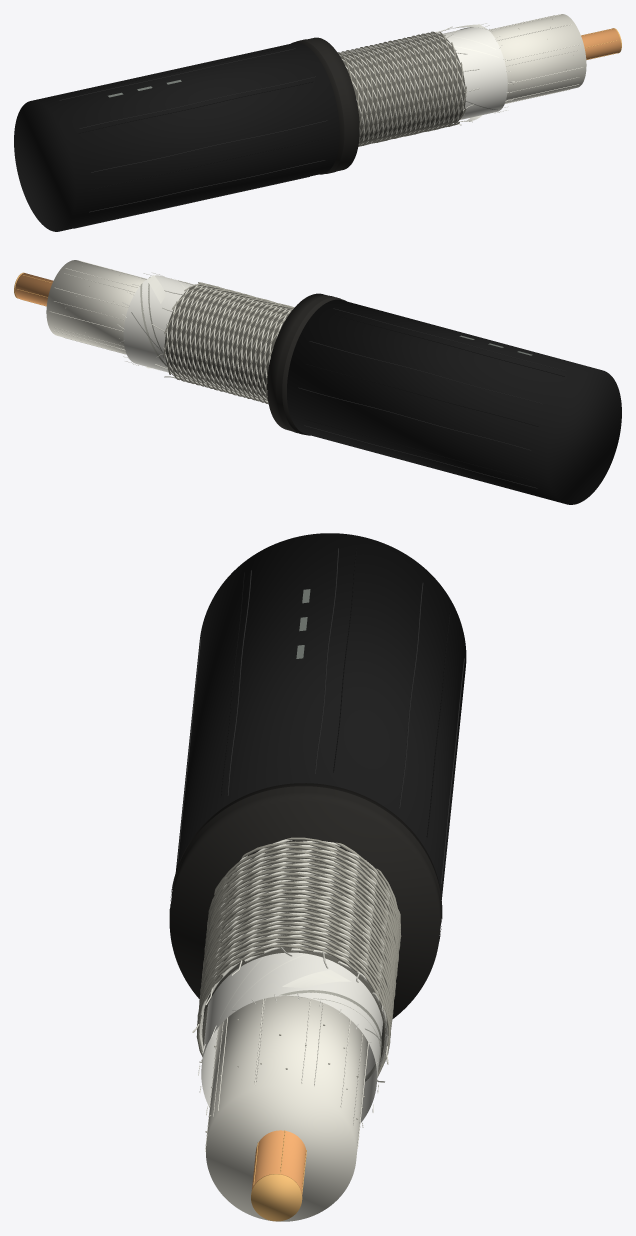
File: rf-lmr195-macro.glb
The picture shows the model from 3 angles, top to bottom: view 1: azimuth 30°, elevation 25°; view 2: azimuth 150°, elevation 25°; view 3: azimuth 270°, elevation 25°; orthographic projection. The views are drawn at different scales.
Visible parts, largest first — view 1: macro jacket body, shadow seen through braid windows, macro dielectric exposed core, continuous foil sleeve under braid, thick jacket cut wall, rounded jacket cut lip, polished solid center conductor, macro braid shadow carrier 05 strand 1, macro braid shadow carrier 06 strand 1, macro braid shadow carrier 08 strand 1, macro braid shadow carrier 07 strand 1, macro braid shadow carrier 04 strand 1 (+5 smaller); view 2: macro jacket body, macro dielectric exposed core, shadow seen through braid windows, continuous foil sleeve under braid, thick jacket cut wall, rounded jacket cut lip, polished solid center conductor, macro braid shadow carrier 02 strand 1, macro braid shadow carrier 01 strand 1, macro braid shadow carrier 03 strand 1, macro braid shadow carrier 04 strand 1, macro braid shadow carrier 12 strand 1 (+3 smaller); view 3: macro jacket body, macro dielectric exposed core, thick jacket cut wall, continuous foil sleeve under braid, shadow seen through braid windows, polished solid center conductor, polished conductor cut face glow, rounded jacket cut lip, macro braid shadow carrier 08 strand 2, macro braid shadow carrier 10 strand 2, macro braid shadow carrier 05 strand 2, macro braid shadow carrier 06 strand 2 (+8 smaller).
Part boxes in pixels (x1,y1,x2,y2): macro jacket body: (14, 42, 339, 231); shadow seen through braid windows: (340, 34, 465, 143); macro dielectric exposed core: (489, 14, 586, 103); continuous foil sleeve under braid: (443, 26, 507, 119); thick jacket cut wall: (291, 37, 359, 174); rounded jacket cut lip: (296, 39, 350, 173); polished solid center conductor: (581, 28, 620, 59); macro braid shadow carrier 05 strand 1: (358, 33, 438, 146); macro braid shadow carrier 06 strand 1: (362, 32, 443, 145); macro braid shadow carrier 08 strand 1: (371, 32, 453, 143); macro braid shadow carrier 07 strand 1: (359, 32, 448, 144); macro braid shadow carrier 04 strand 1: (358, 35, 434, 145); macro jacket body: (287, 299, 621, 504); macro dielectric exposed core: (46, 260, 145, 354); shadow seen through braid windows: (164, 285, 290, 400); continuous foil sleeve under braid: (123, 275, 193, 372); thick jacket cut wall: (267, 293, 346, 435); rounded jacket cut lip: (276, 295, 340, 434); polished solid center conductor: (15, 273, 53, 305); macro braid shadow carrier 02 strand 1: (177, 291, 292, 396); macro braid shadow carrier 01 strand 1: (182, 292, 293, 397); macro braid shadow carrier 03 strand 1: (172, 290, 288, 395); macro braid shadow carrier 04 strand 1: (168, 289, 290, 393); macro braid shadow carrier 12 strand 1: (186, 293, 293, 398); macro jacket body: (175, 533, 466, 899); macro dielectric exposed core: (206, 996, 367, 1221); thick jacket cut wall: (169, 783, 441, 1018); continuous foil sleeve under braid: (201, 952, 382, 1122); shadow seen through braid windows: (202, 843, 385, 1061); polished solid center conductor: (251, 1130, 306, 1194); polished conductor cut face glow: (251, 1174, 302, 1221); rounded jacket cut lip: (169, 786, 442, 941); macro braid shadow carrier 08 strand 2: (198, 837, 399, 1009); macro braid shadow carrier 10 strand 2: (198, 846, 398, 1020); macro braid shadow carrier 05 strand 2: (200, 877, 400, 1053); macro braid shadow carrier 06 strand 2: (202, 868, 401, 1008).
Size of the model in its own units: 6.46 by 1.36 by 1.48.
